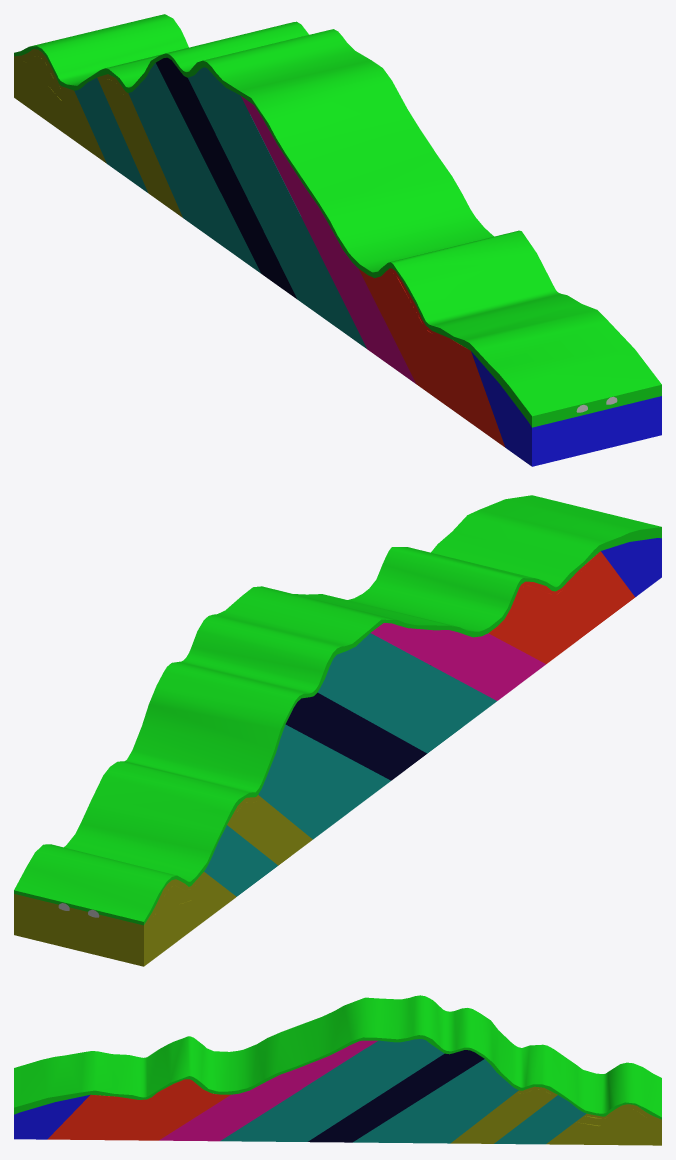
File: XFD.obj
3 views of the same model, one above another, from view 1: azimuth 30°, elevation 25°; view 2: azimuth 150°, elevation 25°; view 3: azimuth 270°, elevation 25° (orthographic). The views are drawn at different scales.
Visible parts, largest first — view 1: 6, 1, 4, 5, 0, 3, 2; view 2: 6, 1, 0, 4, 3, 2, 5; view 3: 6, 1, 4, 0, 3, 2, 5.
Part boxes in pixels (x1,y1,x2,y2): 6: (14,14,661,427); 1: (74,63,366,348); 4: (358,268,505,447); 5: (471,351,661,466); 0: (14,49,182,217); 3: (241,96,415,383); 2: (156,57,296,298); 6: (14,495,661,925); 1: (204,633,496,896); 0: (14,795,312,966); 4: (488,551,635,664); 3: (371,623,545,700); 2: (285,692,426,780); 5: (601,538,661,596); 6: (14,995,661,1119); 1: (220,1039,586,1144); 4: (47,1079,230,1140); 0: (450,1086,661,1145); 3: (159,1040,377,1141); 2: (308,1050,484,1142); 5: (14,1095,89,1139).
Size of the model in its own units: 181 by 236 by 1251.
